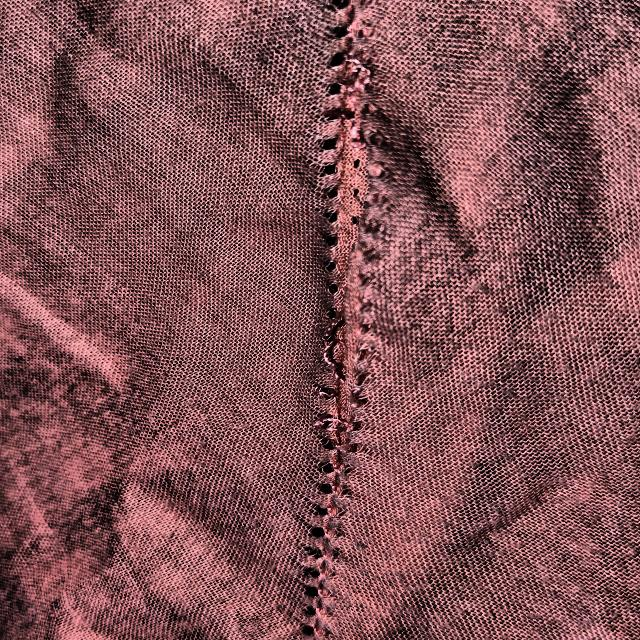seam: (268, 79, 441, 461)
